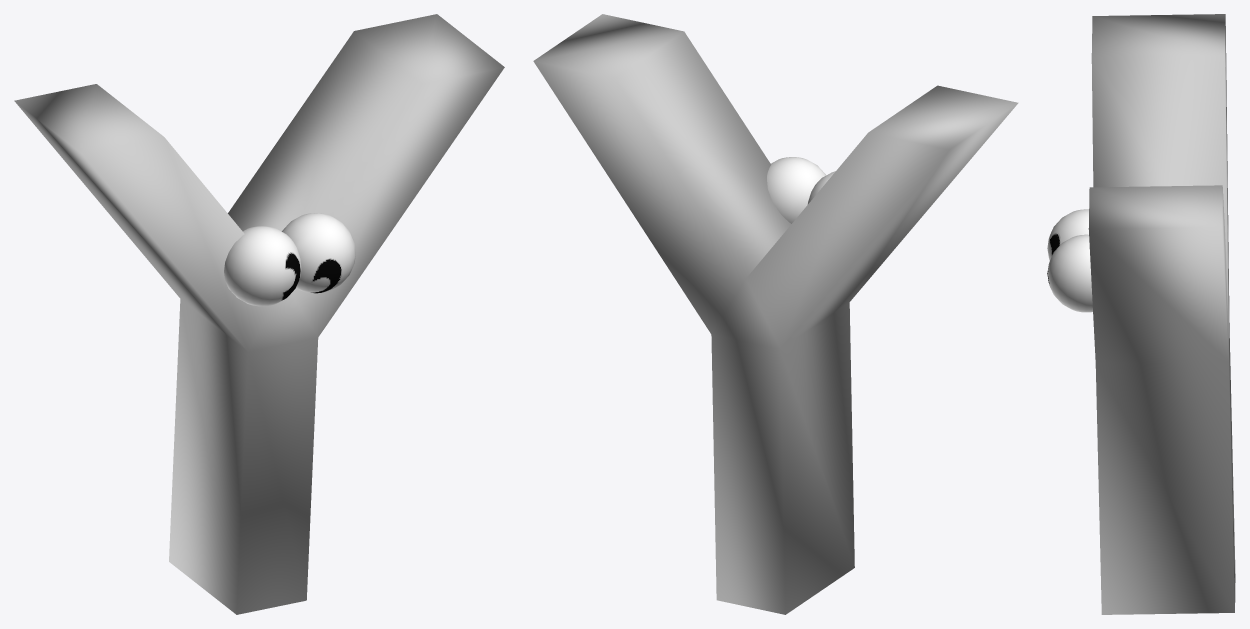
Rendered from Antibody.fbx.
3 views of the same model, side by side, from view 1: azimuth 30°, elevation 25°; view 2: azimuth 150°, elevation 25°; view 3: azimuth 270°, elevation 25° (orthographic). The views are drawn at different scales.
Visible parts, largest first — view 1: Antibody; view 2: Antibody; view 3: Antibody.
Boxes of the visible parts, bbox=[...] form: Antibody: bbox=[14, 14, 504, 614]; Antibody: bbox=[533, 14, 1018, 614]; Antibody: bbox=[1047, 14, 1235, 614].
Bounding box in the file's own units: 18.15 × 20.91 × 7.23.
